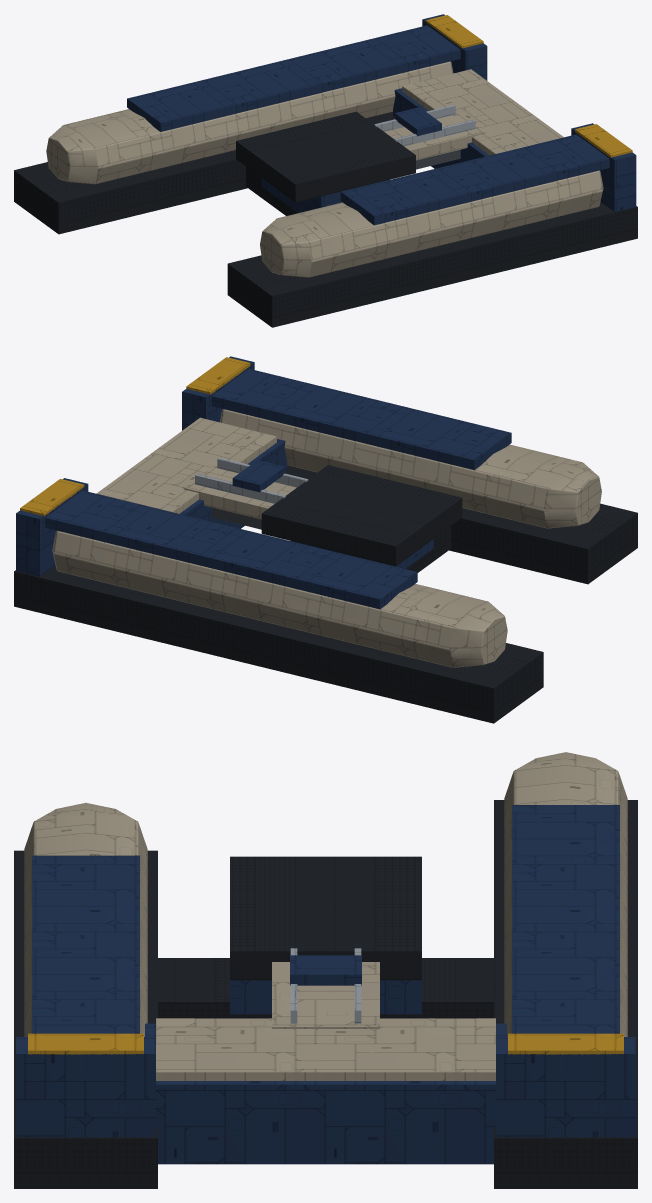
Rendered from place_archive_instrument_cradle_lod2.glb.
3 renders of one model, top to bottom at view 1: azimuth 30°, elevation 25°; view 2: azimuth 150°, elevation 25°; view 3: azimuth 270°, elevation 25°, orthographic. The views are drawn at different scales.
Visible parts, largest first — view 1: LOD2_MechanicalDark, LOD2_Hull, LOD2_Armor, LOD2_Warning, LOD2_BrushedMetal; view 2: LOD2_MechanicalDark, LOD2_Hull, LOD2_Armor, LOD2_Warning, LOD2_BrushedMetal, LOD2_Mechanical; view 3: LOD2_Armor, LOD2_MechanicalDark, LOD2_Hull, LOD2_Warning, LOD2_BrushedMetal.
Part boxes in pixels (<box>): LOD2_MechanicalDark: <box>14,111,637,327</box>; LOD2_Hull: <box>46,61,603,277</box>; LOD2_Armor: <box>127,14,636,225</box>; LOD2_Warning: <box>426,15,632,157</box>; LOD2_BrushedMetal: <box>374,105,475,146</box>; LOD2_MechanicalDark: <box>14,465,637,723</box>; LOD2_Hull: <box>52,409,601,667</box>; LOD2_Armor: <box>16,356,511,609</box>; LOD2_Warning: <box>20,357,250,515</box>; LOD2_BrushedMetal: <box>195,457,308,503</box>; LOD2_Mechanical: <box>211,507,261,529</box>; LOD2_Armor: <box>16,805,635,1164</box>; LOD2_MechanicalDark: <box>14,800,637,1188</box>; LOD2_Hull: <box>24,752,627,1080</box>; LOD2_Warning: <box>28,1033,623,1054</box>; LOD2_BrushedMetal: <box>290,948,361,1023</box>.
Size of the model in its own units: 20 by 3.79 by 15.6.
6 materials, 6 textured.
